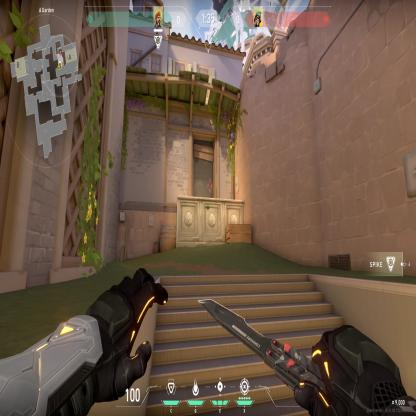enemy: (206, 175, 213, 199)
